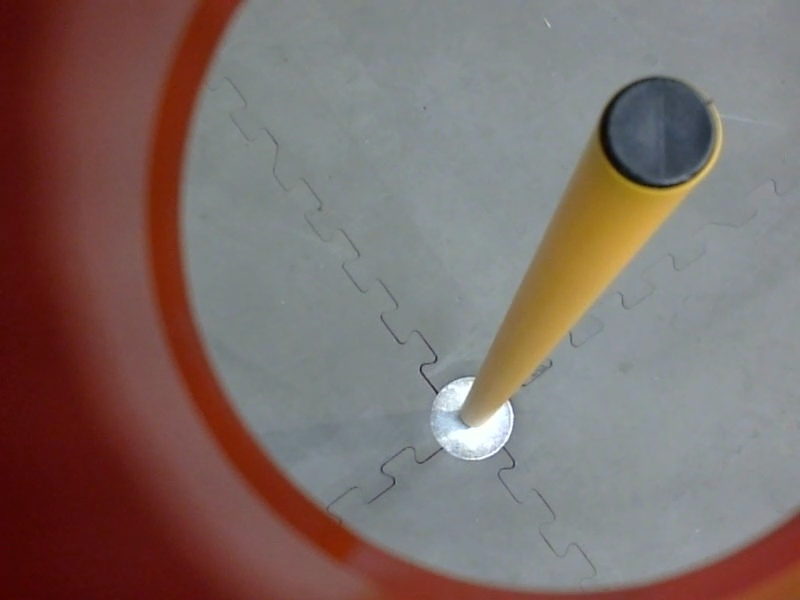tip: (595, 68, 726, 196)
